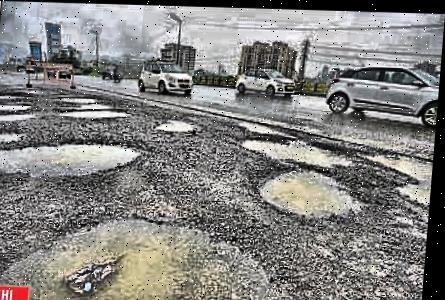pothole: (0, 210, 300, 300), (0, 136, 143, 180), (259, 165, 364, 216), (244, 133, 351, 166), (63, 107, 128, 119), (157, 116, 197, 132), (0, 100, 37, 111), (0, 111, 37, 121), (60, 95, 99, 102)
